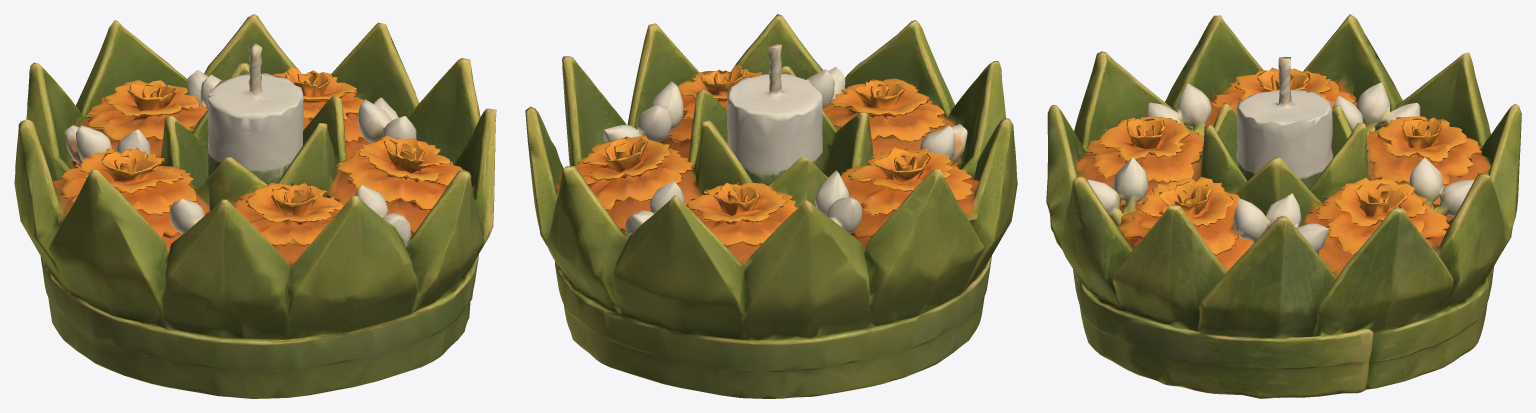
The model's file is lboat.glb.
3 views of the same model, side by side, from view 1: azimuth 30°, elevation 25°; view 2: azimuth 150°, elevation 25°; view 3: azimuth 270°, elevation 25° (orthographic). The views are drawn at different scales.
Visible parts, largest first — view 1: tripo_node_10a2f89c-ed68-449e-9937-12fce95157dc; view 2: tripo_node_10a2f89c-ed68-449e-9937-12fce95157dc; view 3: tripo_node_10a2f89c-ed68-449e-9937-12fce95157dc.
Boxes of the visible parts, x1,y1,x2,y2 form: tripo_node_10a2f89c-ed68-449e-9937-12fce95157dc: [14, 14, 496, 398]; tripo_node_10a2f89c-ed68-449e-9937-12fce95157dc: [525, 14, 1017, 398]; tripo_node_10a2f89c-ed68-449e-9937-12fce95157dc: [1046, 14, 1521, 398].
Bounding box in the file's own units: 0.9998 × 0.5899 × 1.
Materials: 1 (1 with a texture image).
